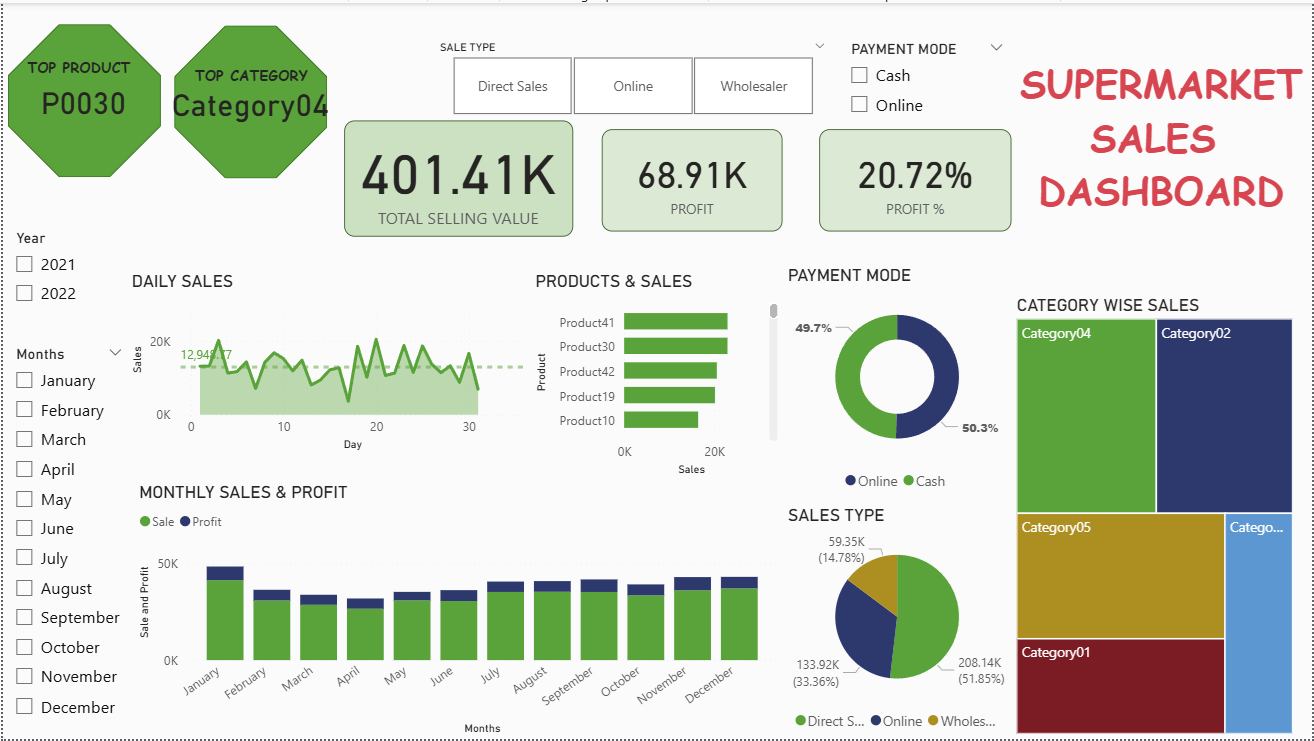

The dashboard page shown, as its layout file describes it:
{"tool":"powerbi","page":{"name":"Page 1","canvas":[1280,720],"ordinal":0},"visuals":[{"type":"shape","box":[5.6,20.4,149.6,149.6],"z":0,"group":"g2"},{"type":"shape","box":[167.4,22,149.6,149.6],"z":0,"group":"g1"},{"type":"slicer","fields":{"Values":["InputData.Year"]},"box":[0,216.8,120.8,90.6],"z":0},{"type":"textbox","box":[4,48.7,141.3,46.7],"z":1000,"group":"g2"},{"type":"textbox","box":[167.4,56.3,150.9,31.6],"z":1000,"group":"g1"},{"type":"slicer","fields":{"Values":["InputData.Month Name"]},"box":[0,330.7,129,389.7],"z":1000},{"type":"slicer","fields":{"Values":["InputData.SALE TYPE"]},"box":[414.8,31.4,402,84.1],"z":2000},{"type":"slicer","fields":{"Values":["InputData.PAYMENT MODE"]},"box":[816.5,31.6,174.3,91.9],"z":3000},{"type":"card","fields":{"Values":["Sum(InputData.TOTAL SELLING VALUE)"]},"box":[333.4,115.3,223.7,113.9],"z":4000},{"type":"card","fields":{"Values":["InputData.PROFIT %"]},"box":[798.6,123.5,188,100.2],"z":5000},{"type":"card","fields":{"Values":["InputData.PROFIT"]},"box":[585.9,123.5,177,100.2],"z":6000},{"type":"columnChart","title":"MONTHLY SALES & PROFIT","fields":{"Category":["InputData.Month Name"],"Y":["Sum(InputData.TOTAL SELLING VALUE)","InputData.PROFIT"]},"box":[129,467.9,634,252.5],"z":7000},{"type":"clusteredBarChart","title":"PRODUCTS & SALES","fields":{"Y":["Sum(InputData.TOTAL SELLING VALUE)"],"Category":["InputData.MasterData.PRODUCT"]},"box":[516,262.1,247,205.8],"z":8000},{"type":"areaChart","title":"DAILY SALES","fields":{"Category":["InputData.Day"],"Y":["Sum(InputData.TOTAL SELLING VALUE)"]},"box":[120.8,262.1,395.2,181.1],"z":9000},{"type":"donutChart","title":"PAYMENT MODE","fields":{"Y":["Sum(InputData.TOTAL SELLING VALUE)"],"Category":["InputData.PAYMENT MODE"]},"box":[763,255.2,223.7,230.5],"z":10000},{"type":"treemap","title":"CATEGORY WISE SALES","fields":{"Group":["InputData.MasterData.CATEGORY"],"Values":["Sum(InputData.TOTAL SELLING VALUE)"]},"box":[986.6,285.4,279.9,435],"z":11000},{"type":"pieChart","title":"SALES TYPE","fields":{"Y":["Sum(InputData.TOTAL SELLING VALUE)"],"Category":["InputData.SALE TYPE"]},"box":[763,489.9,223.7,230.5],"z":12000},{"type":"group","id":"g1","title":"Group 1","box":[167.4,22,150.9,149.6],"z":13000},{"type":"group","id":"g2","title":"Group 2","box":[4,20.4,151.1,149.6],"z":14000},{"type":"card","fields":{"Values":["Min(InputData.PRODUCT ID)"]},"box":[10,38.5,138.3,116.9],"z":15000},{"type":"card","fields":{"Values":["Min(InputData.MasterData.CATEGORY)"]},"box":[155.4,55.6,173.9,86.9],"z":16000},{"type":"textbox","box":[986.6,48,292.3,211.3],"z":17000}]}

Visuals, with their boxes in screenshot pixels (x1, y1, x2, y2), scaled from the page's 1280x720 canvas onto the 1314x741 screenshot:
shape: locate(6, 21, 159, 175)
shape: locate(172, 23, 325, 177)
slicer - InputData.Year: locate(0, 223, 124, 316)
textbox: locate(4, 50, 149, 98)
textbox: locate(172, 58, 327, 90)
slicer - InputData.Month Name: locate(0, 340, 132, 740)
slicer - InputData.SALE TYPE: locate(426, 32, 838, 119)
slicer - InputData.PAYMENT MODE: locate(838, 33, 1017, 127)
card - Sum(InputData.TOTAL SELLING VALUE): locate(342, 119, 572, 236)
card - InputData.PROFIT %: locate(820, 127, 1013, 230)
card - InputData.PROFIT: locate(601, 127, 783, 230)
"MONTHLY SALES & PROFIT" columnChart: locate(132, 482, 783, 740)
"PRODUCTS & SALES" clusteredBarChart: locate(530, 270, 783, 482)
"DAILY SALES" areaChart: locate(124, 270, 530, 456)
"PAYMENT MODE" donutChart: locate(783, 263, 1013, 500)
"CATEGORY WISE SALES" treemap: locate(1013, 294, 1300, 740)
"SALES TYPE" pieChart: locate(783, 504, 1013, 740)
"Group 1" group: locate(172, 23, 327, 177)
"Group 2" group: locate(4, 21, 159, 175)
card - Min(InputData.PRODUCT ID): locate(10, 40, 152, 160)
card - Min(InputData.MasterData.CATEGORY): locate(160, 57, 338, 147)
textbox: locate(1013, 49, 1313, 267)
